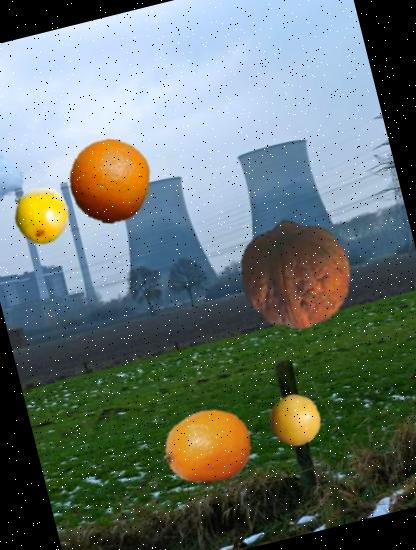Grapefruit: (263, 386, 328, 452)
Lemon: (154, 392, 262, 500)
Maracuja: (5, 180, 76, 250)
Orange: (58, 130, 160, 232)
Walnut: (228, 206, 366, 344)
